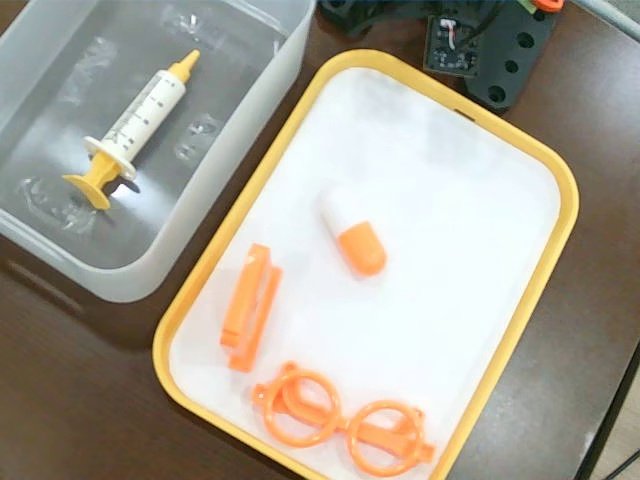pill: (319, 185, 388, 278)
syringe: (61, 49, 200, 213)
